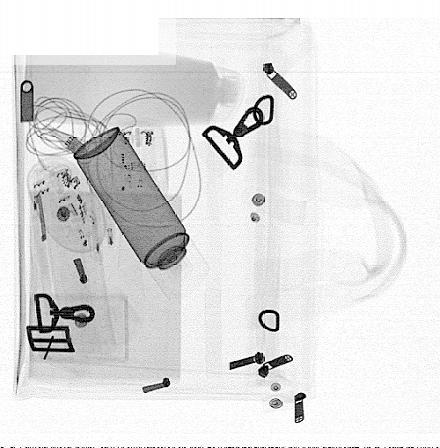Sprayer: (72, 125, 212, 303)
